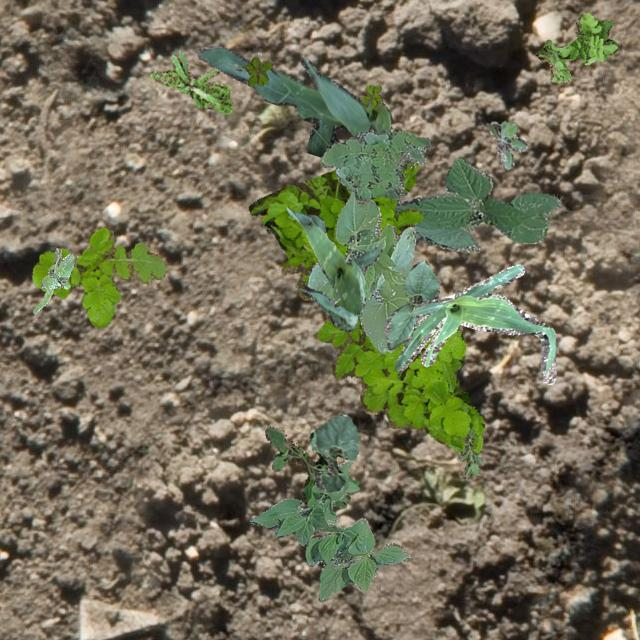crop: (248, 461, 411, 602), (196, 46, 392, 156), (394, 264, 556, 384), (306, 190, 414, 352), (394, 156, 560, 252), (286, 206, 380, 330), (384, 260, 438, 348), (310, 412, 358, 492)
weed: (247, 162, 483, 452), (30, 226, 166, 326), (320, 128, 430, 206), (264, 426, 359, 508), (534, 12, 616, 82), (150, 50, 232, 114), (32, 248, 72, 312), (486, 120, 526, 168), (456, 428, 482, 478), (244, 56, 272, 84), (361, 84, 382, 105)
